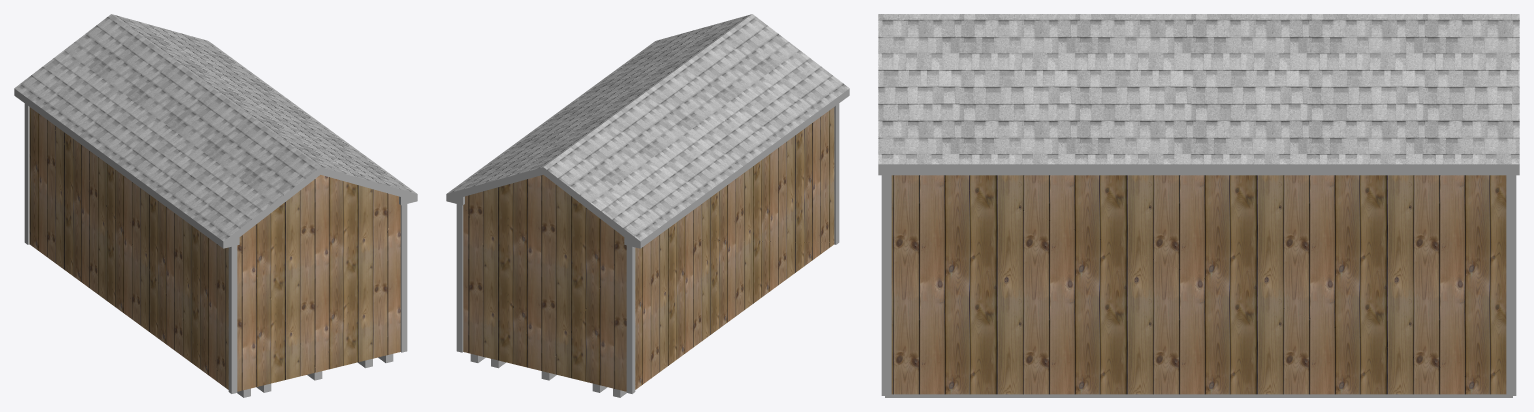
Rendered from A-frame_8x16.obj.
3 renders of one model, left to right at view 1: azimuth 30°, elevation 25°; view 2: azimuth 150°, elevation 25°; view 3: azimuth 270°, elevation 25°, orthographic. The views are drawn at different scales.
Visible parts, largest first — view 1: Shed, Roof, Trim, Sides, Floor; view 2: Shed, Roof, Trim, Sides, Floor; view 3: Shed, Roof, Sides, Trim, Floor.
Part boxes in pixels (x1,y1,x2,y2): Shed: [29, 107, 400, 391]; Roof: [14, 14, 416, 241]; Trim: [24, 103, 407, 393]; Sides: [14, 88, 417, 248]; Floor: [237, 354, 393, 397]; Shed: [463, 107, 834, 391]; Roof: [447, 14, 849, 241]; Trim: [456, 103, 839, 393]; Sides: [446, 88, 849, 248]; Floor: [470, 354, 626, 397]; Shed: [891, 175, 1506, 394]; Roof: [878, 14, 1519, 164]; Sides: [878, 164, 1519, 175]; Trim: [881, 175, 1516, 395]; Floor: [885, 394, 1512, 397].
Bounding box in the file's own units: 2.67 × 2.81 × 4.98.
